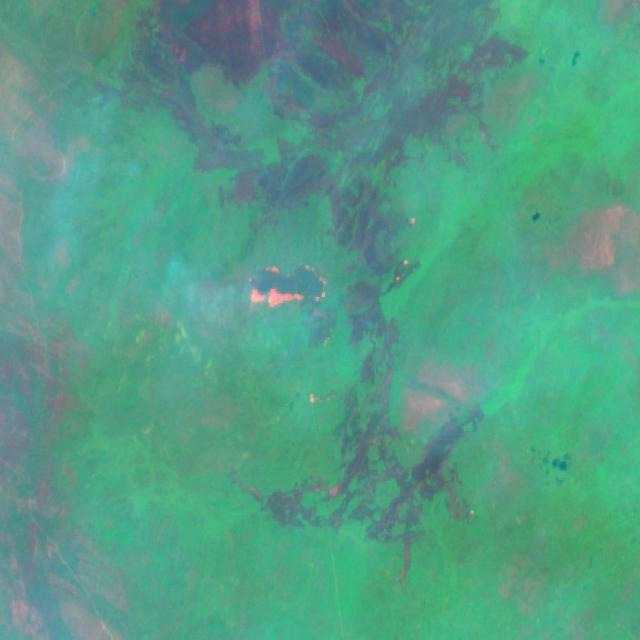fire: (244, 256, 332, 323)
